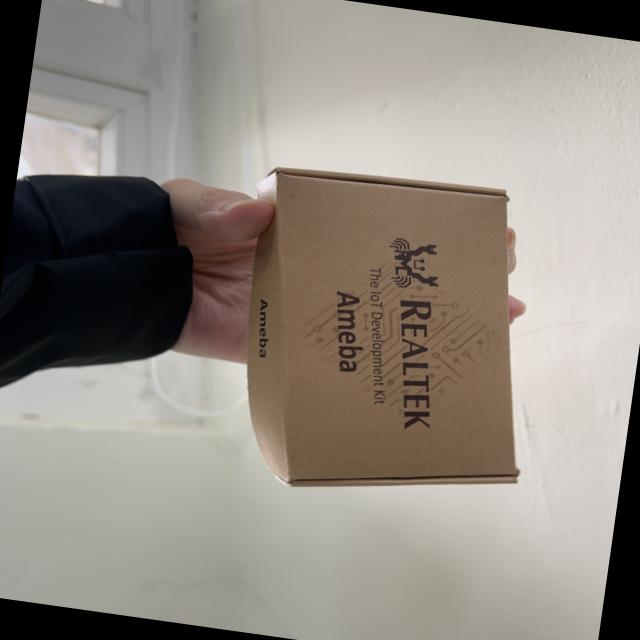box: (176, 139, 590, 547)
